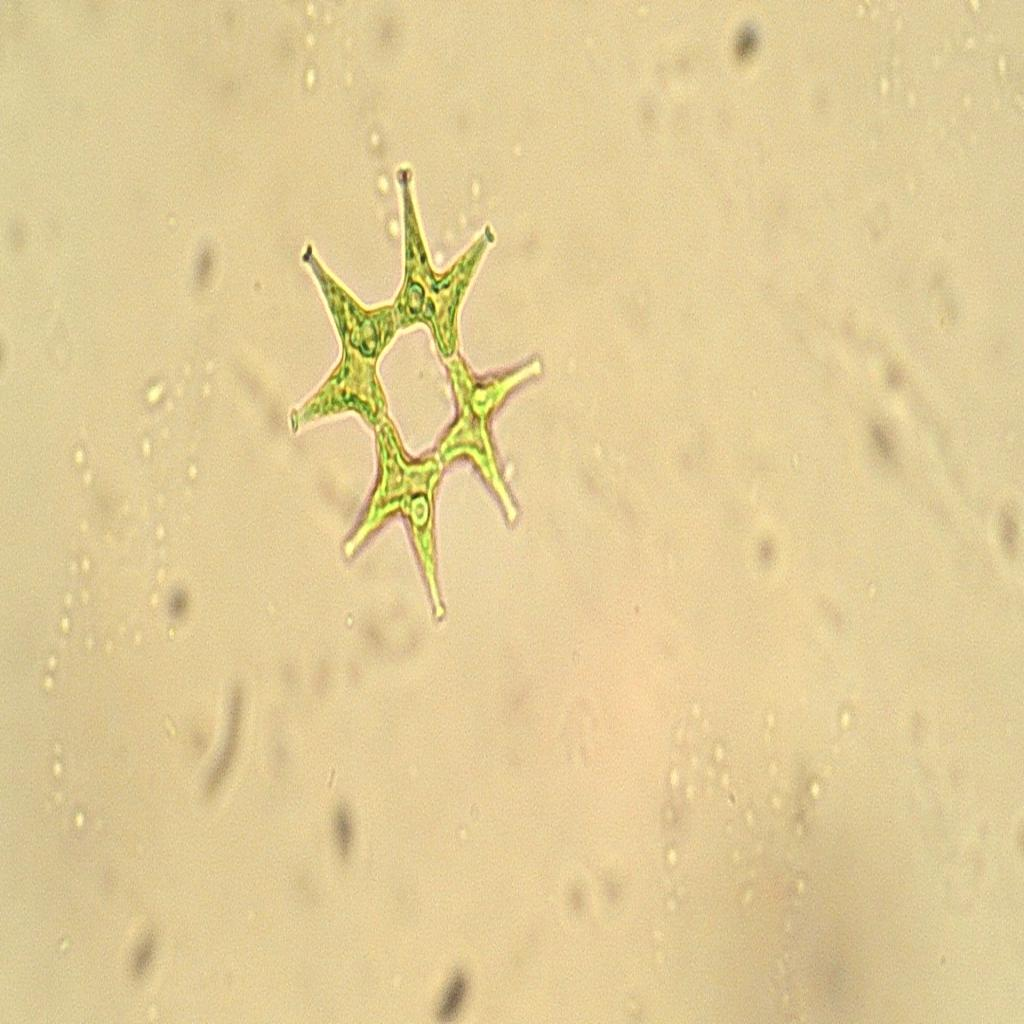Pediastrum_CO: (279, 159, 556, 623)
